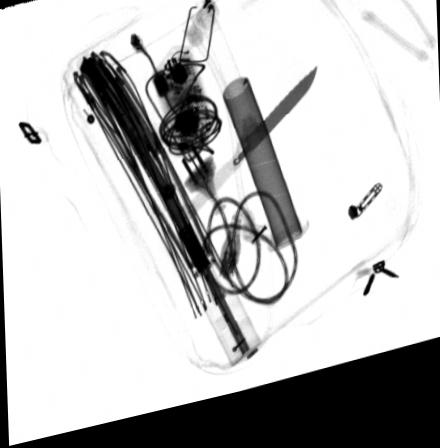Knife: (161, 78, 318, 246)
